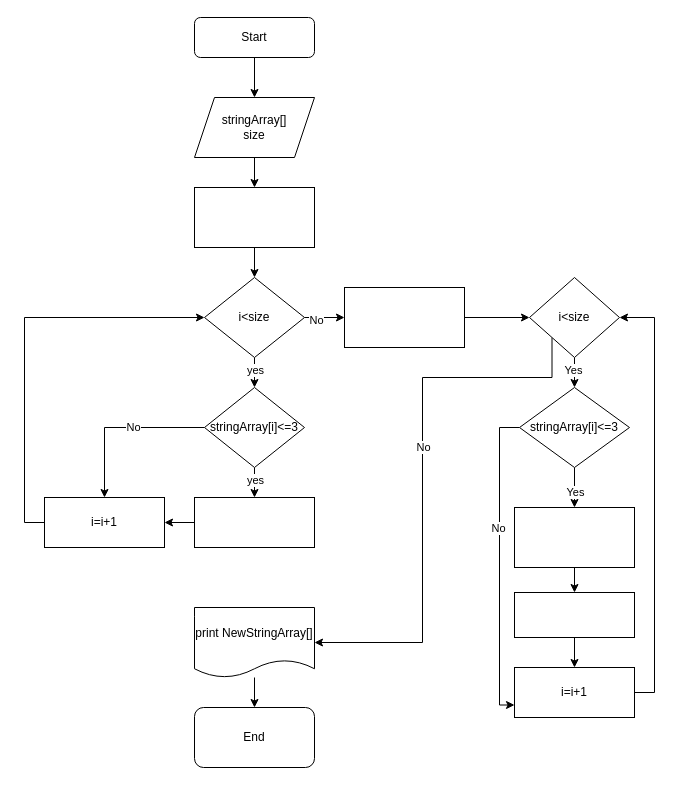
Image size: 680x785. Some labels were removed from this diagram. The box of each missing label's shape, as (x1, y1, x2, y2) in pixels:
i=0 n=0 m=0: (194, 186, 314, 248)
m=m+1: (514, 592, 634, 638)
n=n+1: (194, 496, 314, 548)
NewStringArray[]: (344, 286, 464, 348)
NewStringArray[m]= stringArray[i]: (514, 506, 634, 568)
